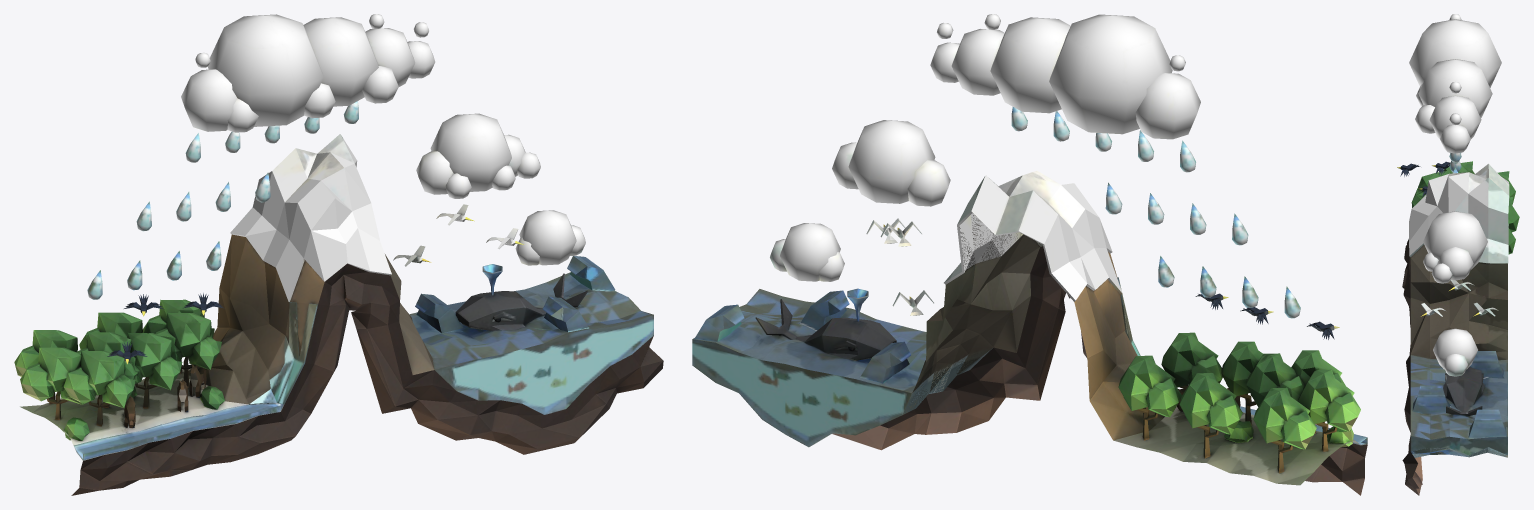
The model's file is water.fbx.
The picture shows the model from 3 angles, left to right: view 1: azimuth 30°, elevation 25°; view 2: azimuth 150°, elevation 25°; view 3: azimuth 270°, elevation 25°; orthographic projection. The views are drawn at different scales.
Visible parts, largest first — view 1: 3; view 2: 3; view 3: 3.
Part boxes in pixels (x1=…): 3: x1=14, y1=14, x2=663, y2=495; 3: x1=692, y1=14, x2=1367, y2=495; 3: x1=1397, y1=14, x2=1519, y2=495.
Size of the model in its own units: 699 by 525 by 159.
Materials: 1 (1 with a texture image).
